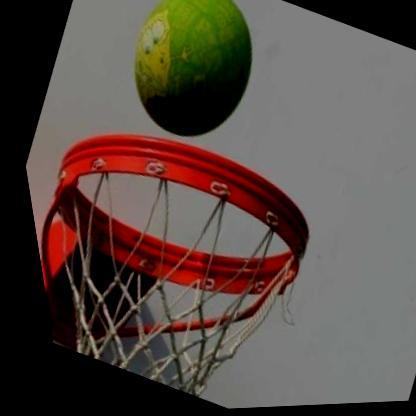basketball: (96, 0, 290, 163)
rim: (11, 82, 358, 416)
